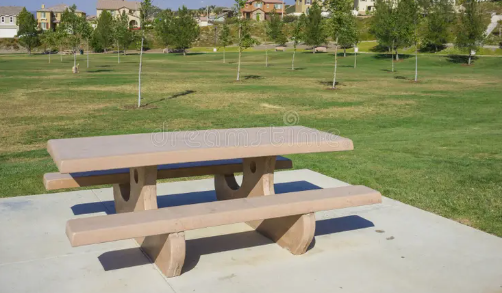obstacle: (35, 120, 383, 273)
